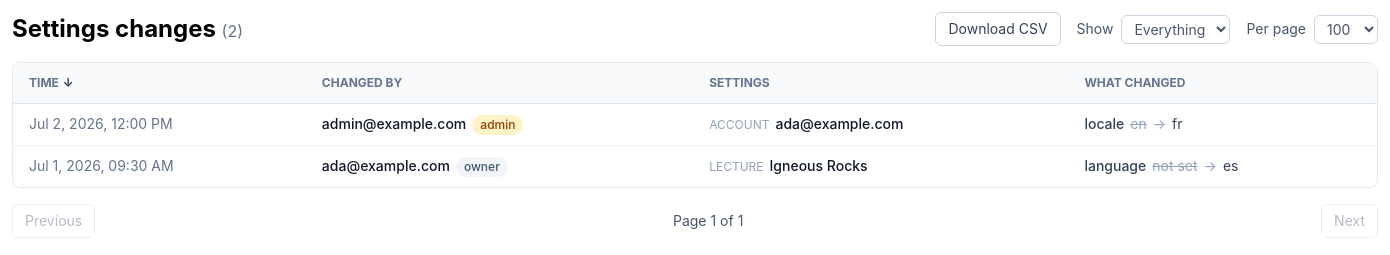
Test: AdminSettingsLogsPage › surfaces a download failure without breaking the page
This screenshot has width=1390, height=255.
expect the text "Page 1 of 1" is shown: met, box [673,211,743,231]
Click the button "Download CSV" at (998, 29), box [935,12,1060,46]
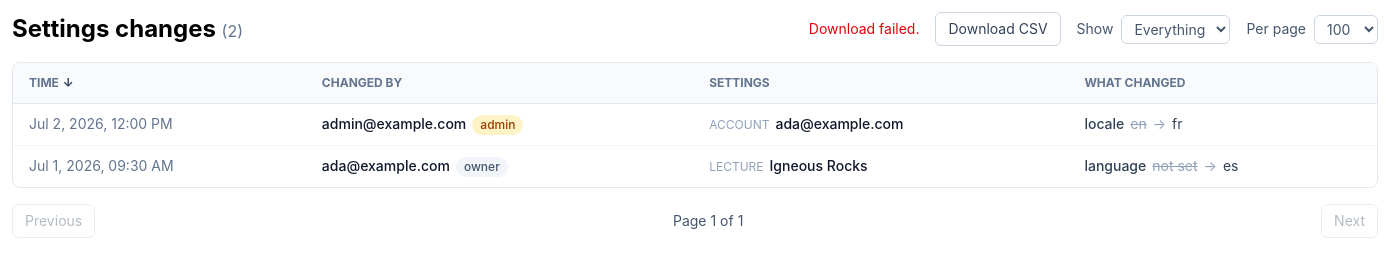
expect the link "Igneous Rocks" is shown: met, box [770,156,868,176]
expect the text "Download failed." is shown: met, box [809,19,919,39]
